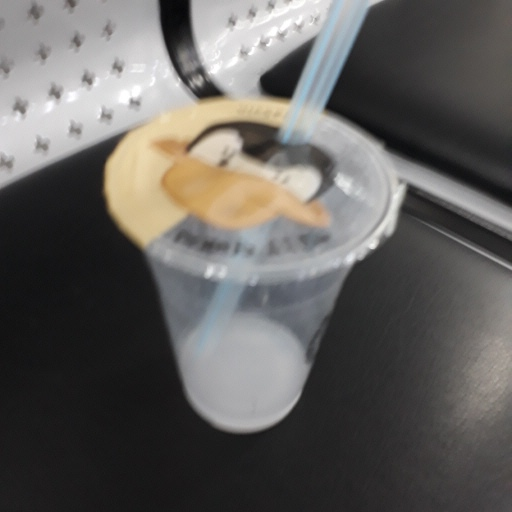Plastic_2: (103, 1, 408, 430)
